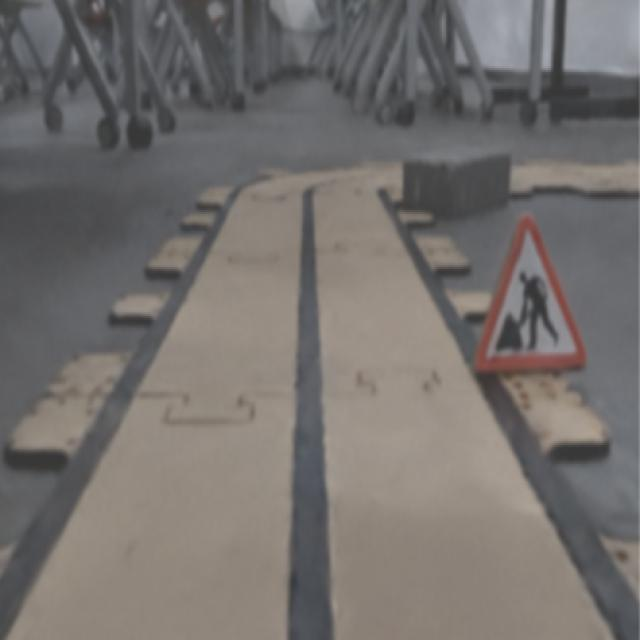WORKERS: (474, 214, 585, 371)
